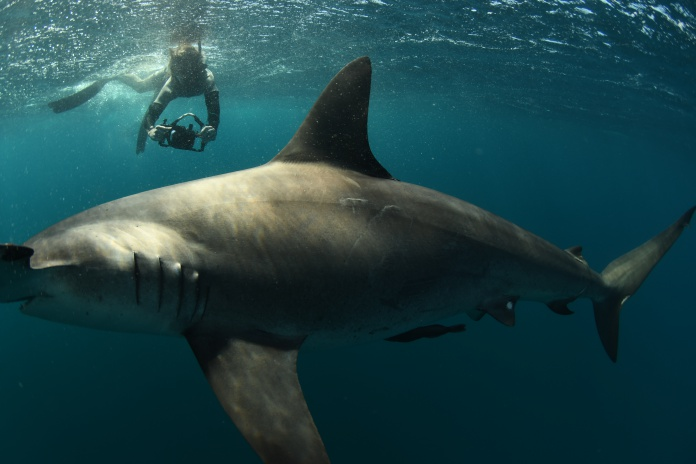Hammer: (2, 48, 687, 463)
